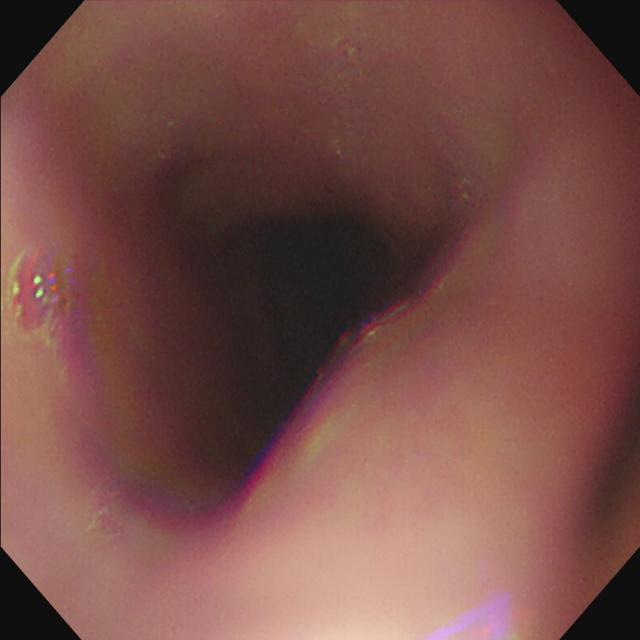E: (230, 220, 358, 413)
T: (10, 252, 51, 337)
U: (34, 274, 58, 305)
